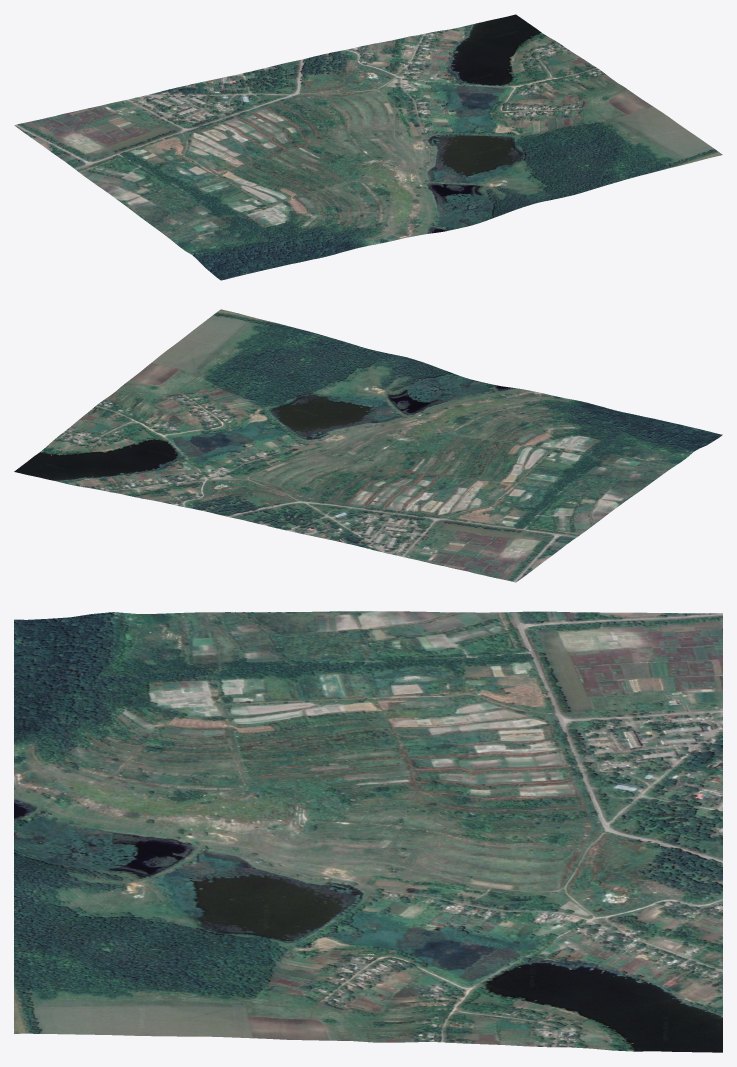
The picture shows the model from 3 angles, top to bottom: view 1: azimuth 30°, elevation 25°; view 2: azimuth 150°, elevation 25°; view 3: azimuth 270°, elevation 25°; orthographic projection. The views are drawn at different scales.
Visible parts, largest first — view 1: EXPORT_GOOGLE_SAT_WM; view 2: EXPORT_GOOGLE_SAT_WM; view 3: EXPORT_GOOGLE_SAT_WM.
Boxes of the visible parts, x1,y1,x2,y2 form: EXPORT_GOOGLE_SAT_WM: (14,14,722,280); EXPORT_GOOGLE_SAT_WM: (14,309,722,582); EXPORT_GOOGLE_SAT_WM: (14,611,722,1052).
Size of the model in its own units: 214024 by 5797 by 152874.
Materials: 1 (1 with a texture image).
